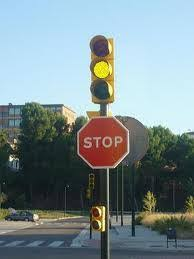Cartel: (69, 115, 135, 173), (106, 113, 151, 167)
Poste: (96, 101, 113, 259)
Semaforo: (86, 34, 115, 104), (89, 204, 106, 233)
